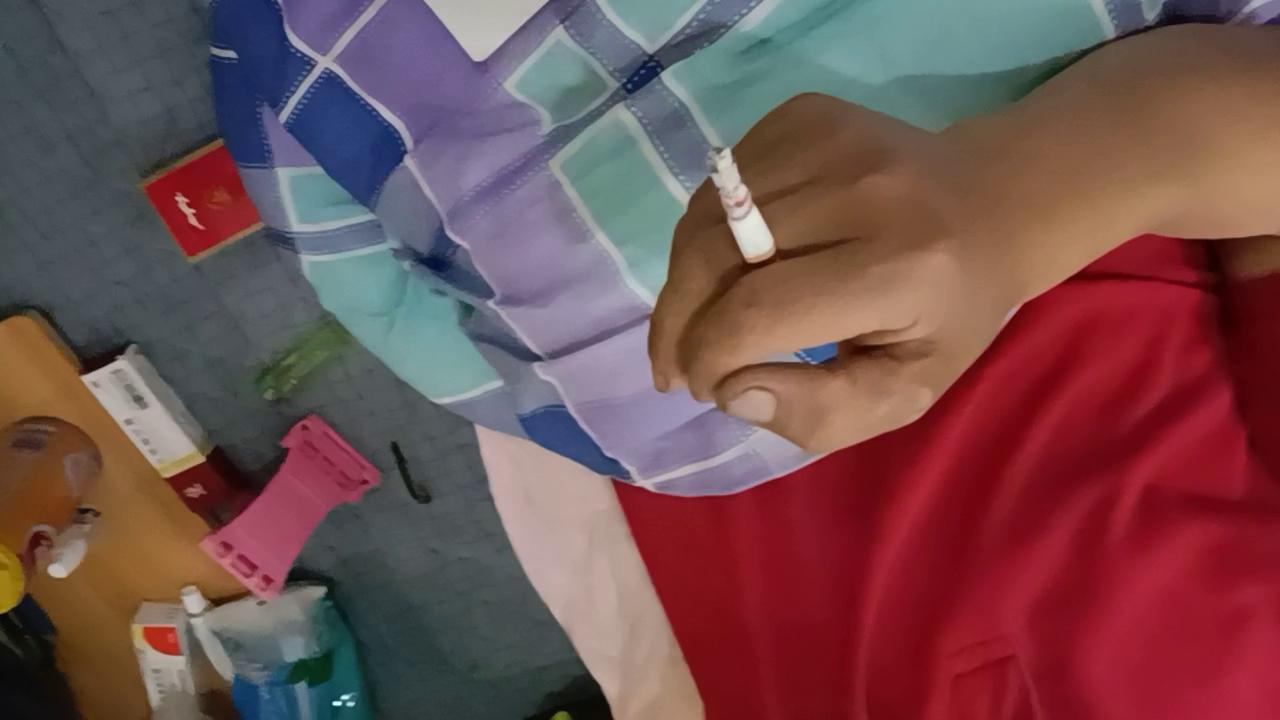smoke: (707, 147, 790, 302)
